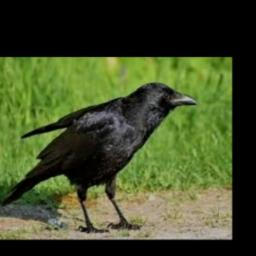Crow: (2, 82, 201, 234)
